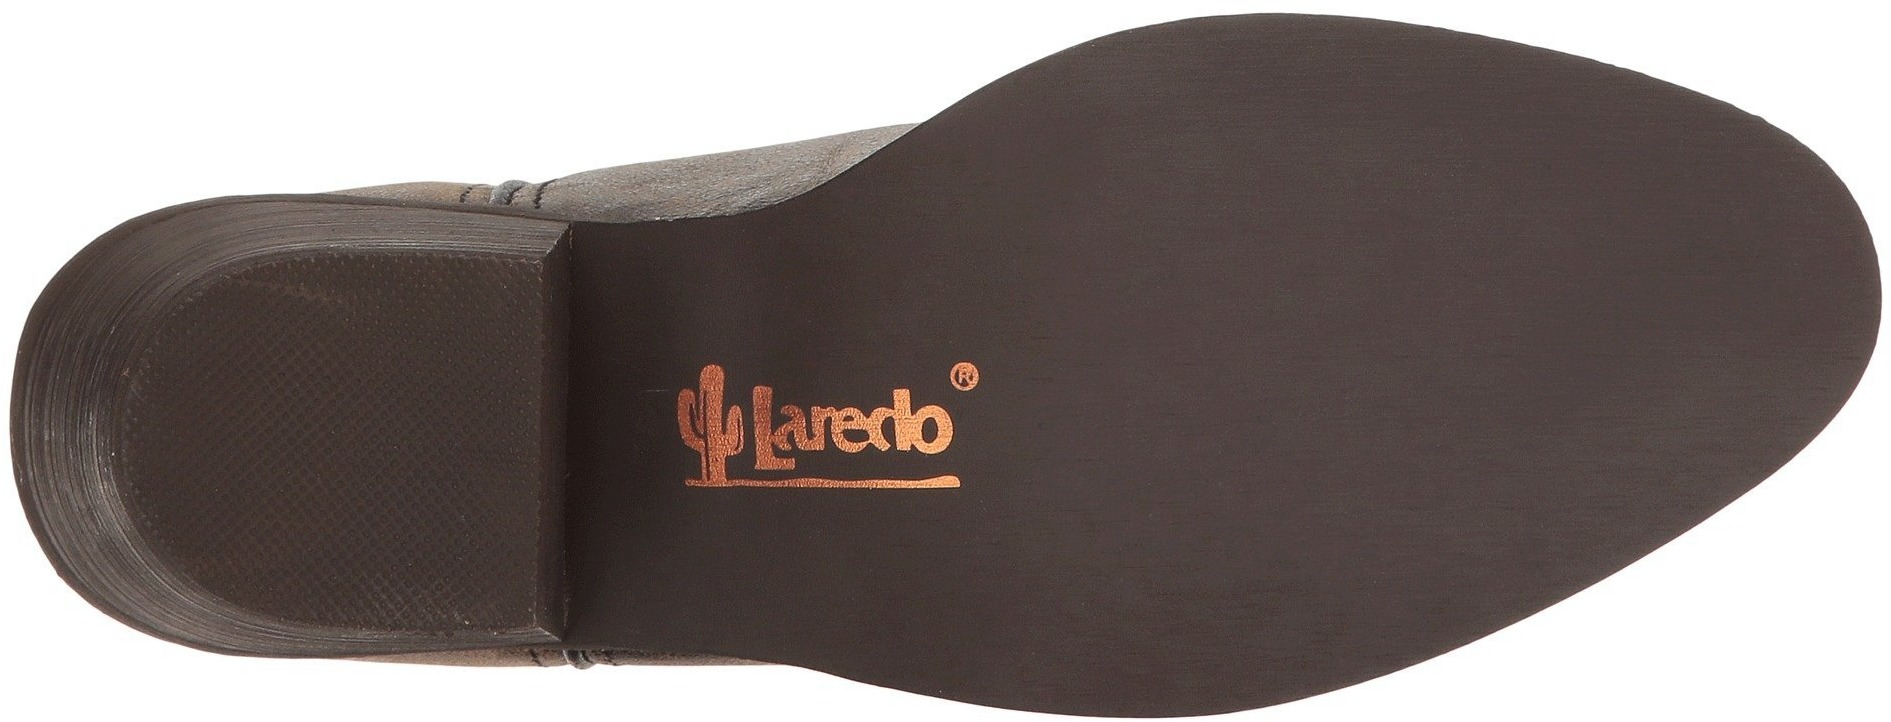other: (1037, 98, 1334, 395), (1350, 71, 1647, 362), (1130, 409, 1406, 663), (171, 321, 423, 569), (1417, 372, 1631, 560), (1657, 257, 1823, 423), (432, 370, 544, 468)
